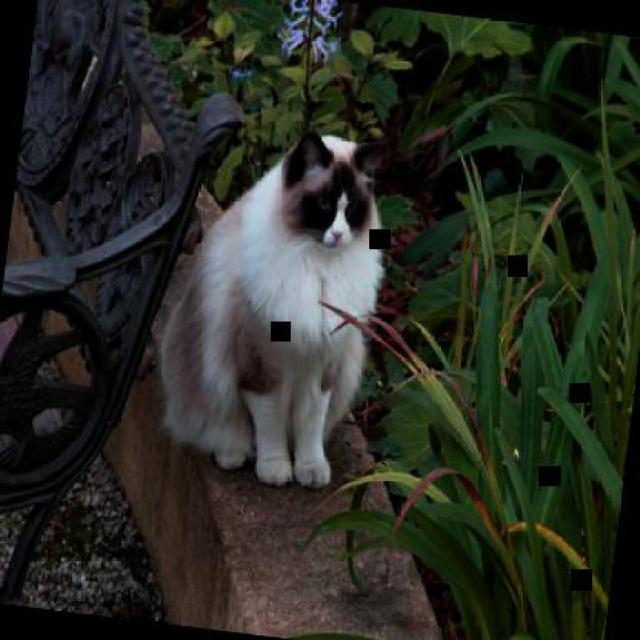cat: (145, 116, 398, 496)
